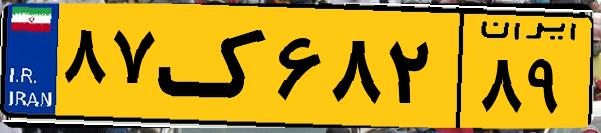2: (385, 28, 445, 110)
6: (270, 28, 330, 110)
7: (110, 28, 158, 98)
8: (330, 28, 385, 110), (57, 26, 110, 100), (475, 38, 525, 113)
9: (525, 38, 570, 115)
ک: (158, 12, 270, 120)
